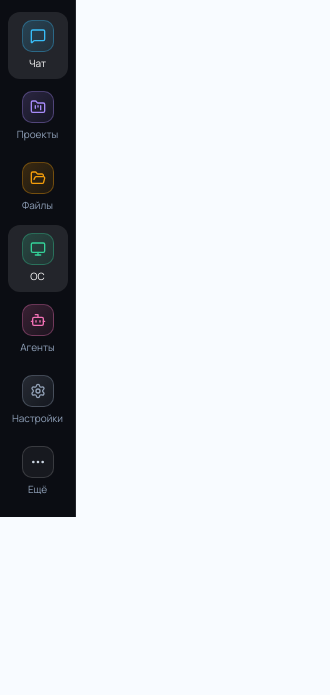
Scenario: навигация школы › меню доступно с клавиатуры и показывает состояние раскрытия
Click the button "Ещё" at (38, 472), box [8,438,68,505]
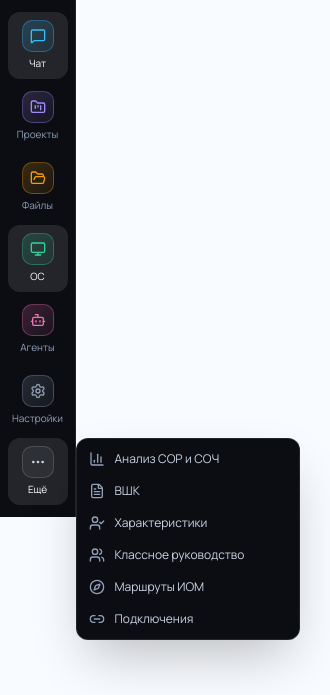
Check: the button "Ещё" is expanded, box [8,438,68,505]
